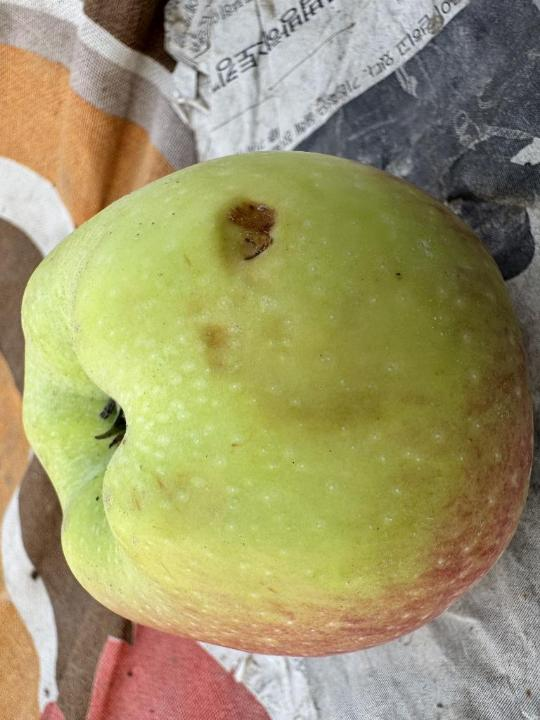apple: (24, 152, 533, 656)
bruise_discoloration: (221, 200, 276, 262)
